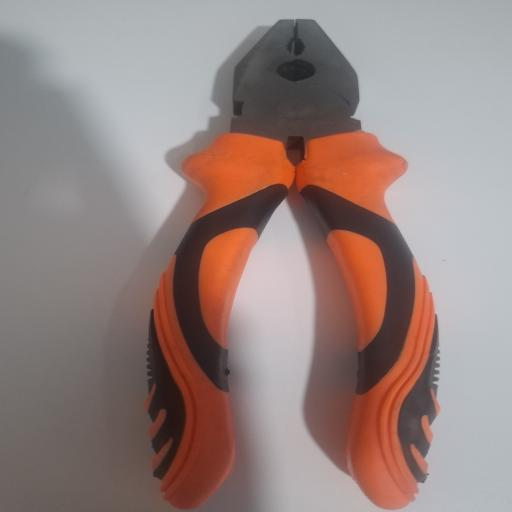alicate: (142, 21, 440, 512)
